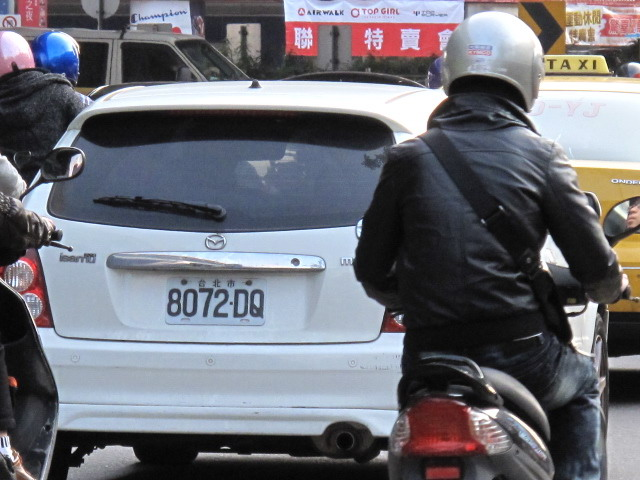plate: (163, 273, 269, 328)
